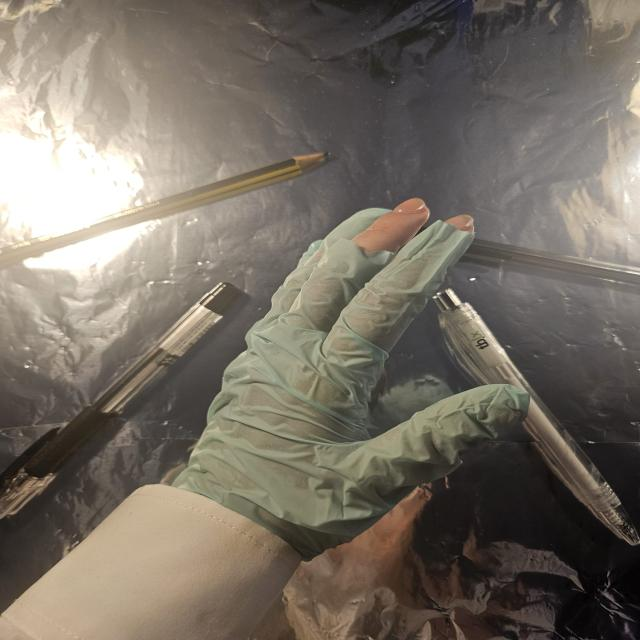gloves_damaged: (168, 196, 534, 561)
